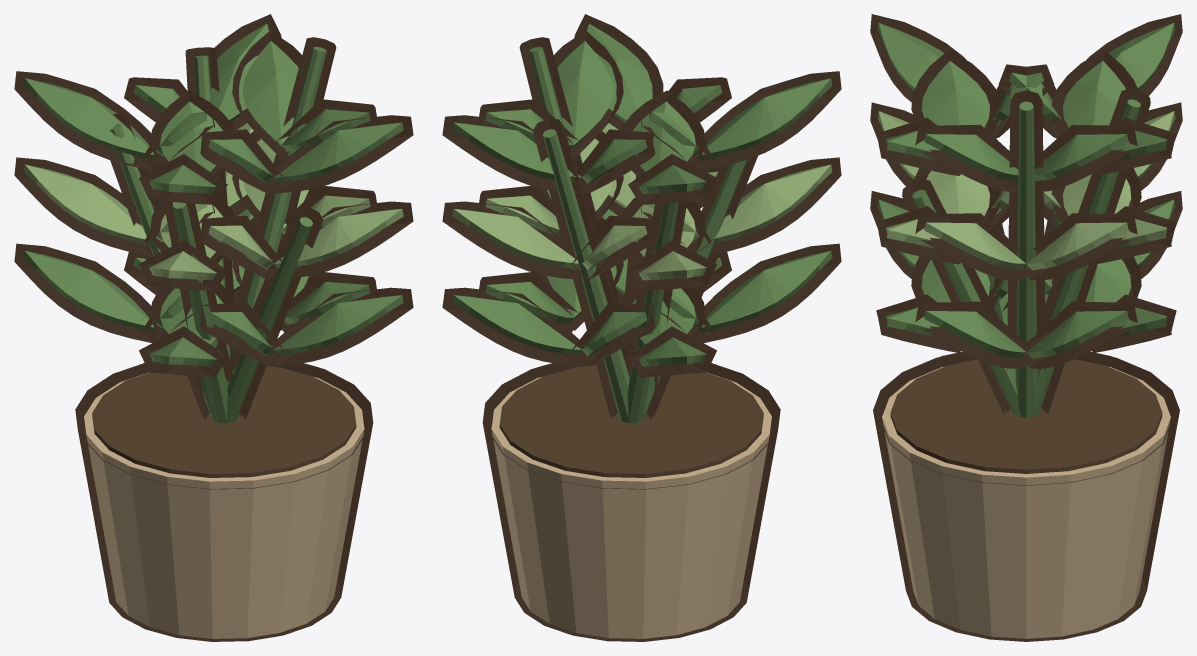
The model's file is zz-plant.glb.
3 renders of one model, left to right at view 1: azimuth 30°, elevation 25°; view 2: azimuth 150°, elevation 25°; view 3: azimuth 270°, elevation 25°, orthographic. The views are drawn at different scales.
Parts seen in each view (by area): view 1: zz-plant, zz-plant-outline; view 2: zz-plant, zz-plant-outline; view 3: zz-plant, zz-plant-outline.
Boxes of the visible parts, x1,y1,x2,y2 form: zz-plant: (23, 23, 403, 638); zz-plant-outline: (14, 14, 413, 641); zz-plant: (452, 23, 832, 638); zz-plant-outline: (442, 14, 841, 641); zz-plant: (877, 23, 1175, 638); zz-plant-outline: (870, 14, 1182, 641).
Bounding box in the file's own units: 0.4957 × 0.957 × 0.4972.
